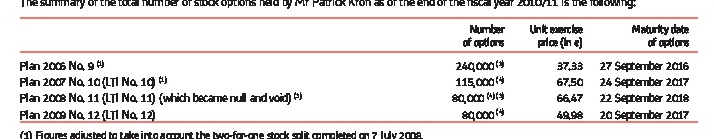table: (0, 0, 714, 139)
